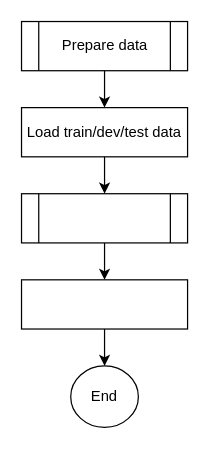
The diagram is 209 pixels wide and 449 high, and some of its shapes have lost their labels. Here are the shapes that lost their labels. From the top down, the box of each, then its label:
(20, 192, 188, 243): Preprocessing
(20, 279, 188, 329): Save prepared data
